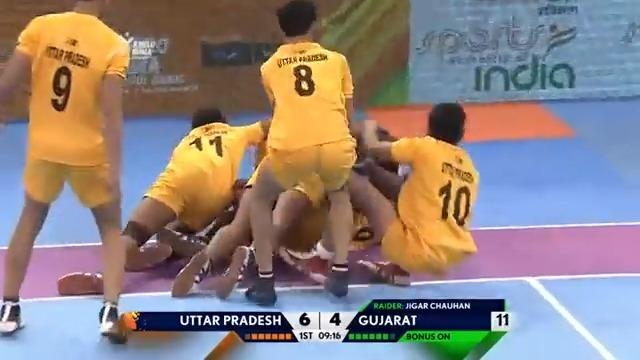Player: (0, 0, 131, 343), (119, 104, 272, 275), (350, 101, 480, 276)
referee: (243, 0, 357, 305)
